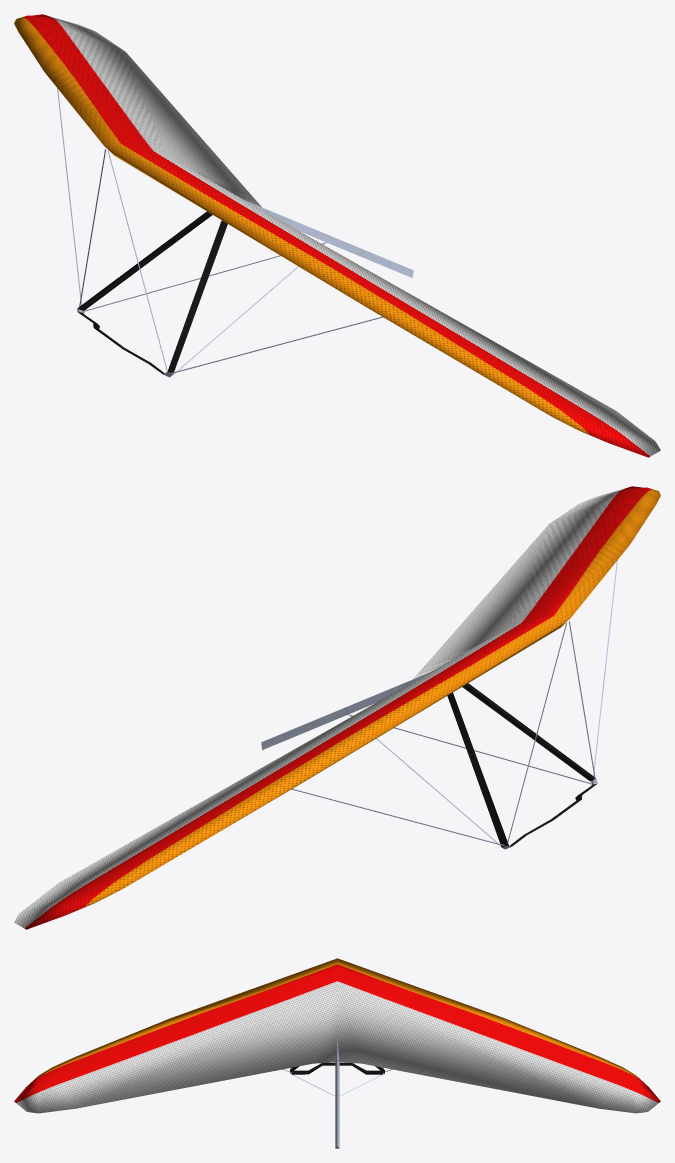
File: hang-glider-red-launch-cbj_LOD02.gltf
3 views of the same model, one above another, from view 1: azimuth 30°, elevation 25°; view 2: azimuth 150°, elevation 25°; view 3: azimuth 270°, elevation 25° (orthographic). The views are drawn at different scales.
Visible parts, largest first — view 1: hang-glider02; view 2: hang-glider02; view 3: hang-glider02.
Part boxes in pixels (x1,y1,x2,y2): hang-glider02: (14, 14, 660, 457); hang-glider02: (14, 486, 660, 929); hang-glider02: (14, 958, 660, 1148).
Bounding box in the file's own units: 2.97 × 1.89 × 10.05.
